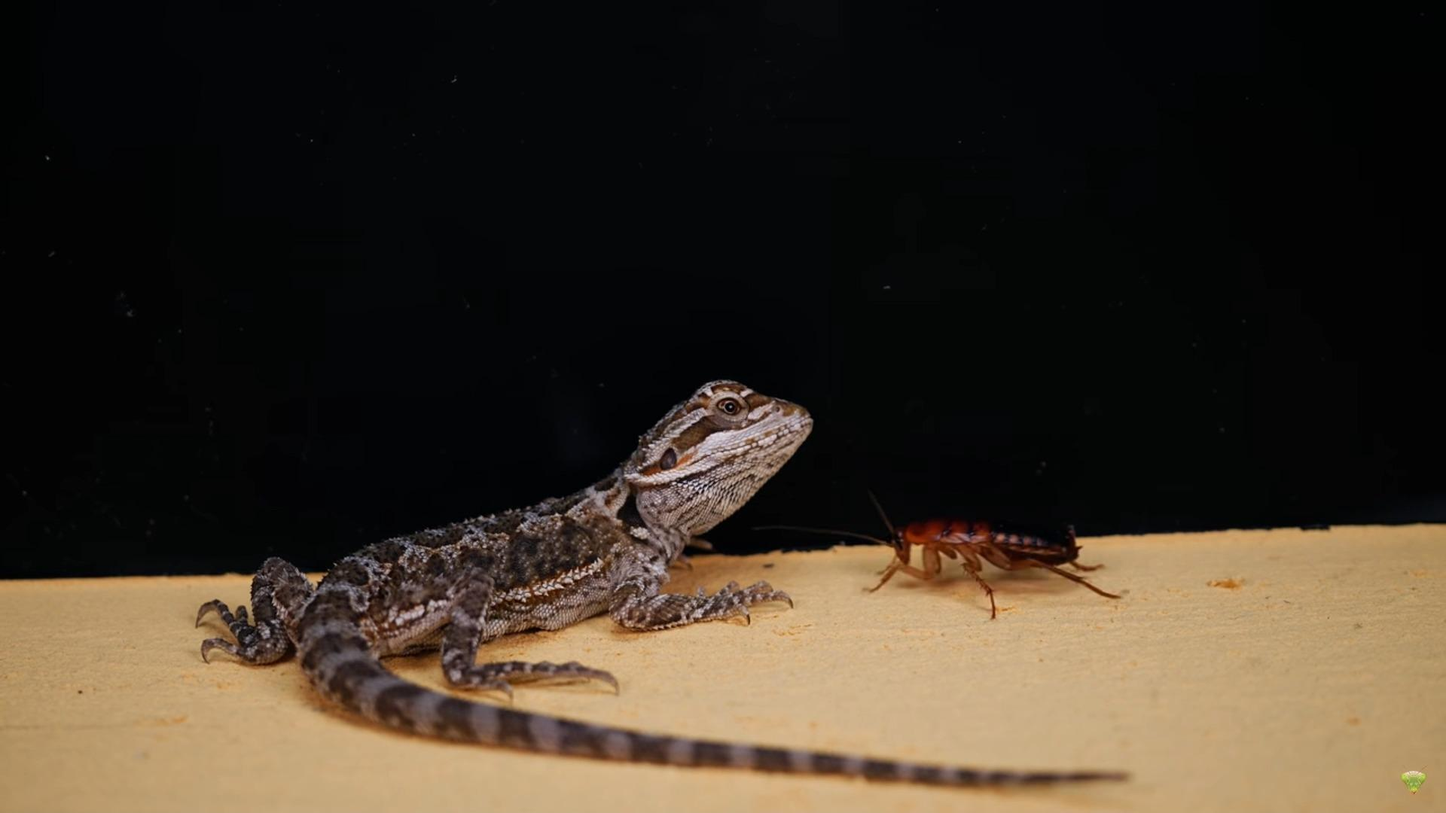cockroach: (863, 500, 1119, 618)
lizard: (208, 377, 832, 781)
